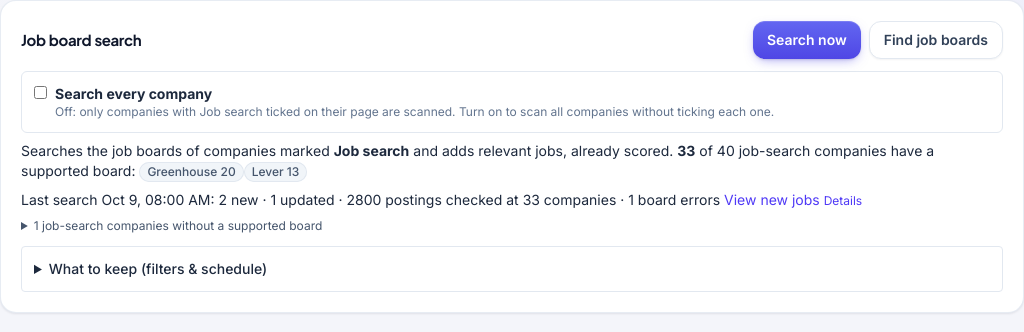
Test case: search every company › turns the switch on without sending the filter form
Expected: the text "only companies with Job search ticked" is shown, x1=55 y1=104 x2=774 y2=119
Click the checkbox labelled "Search every company".
click(40, 92)  # box x1=34 y1=86 x2=47 y2=99
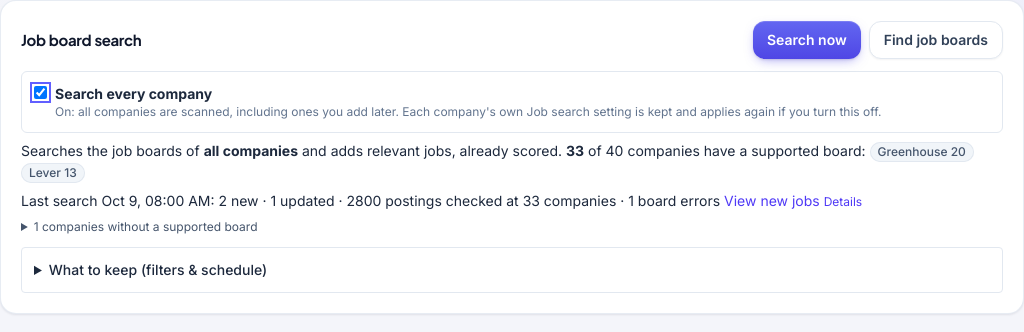
Expected: the checkbox labelled "Search every company" is checked, x1=34 y1=86 x2=47 y2=99
Expected: the text "all companies are scanned, including ones you add later" is shown, x1=55 y1=104 x2=882 y2=119
